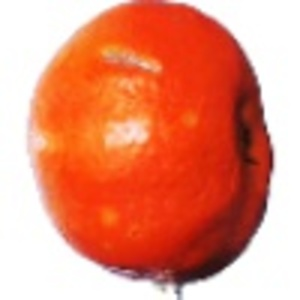tangerina: (25, 1, 277, 300)
